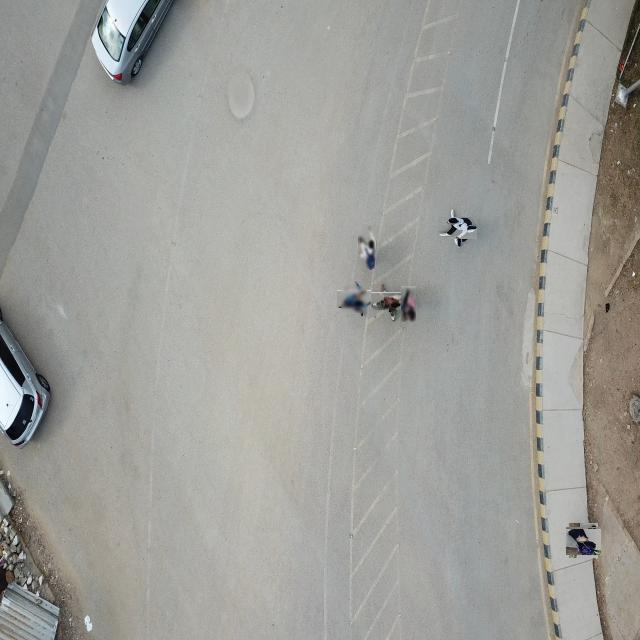Manusia: (568, 524, 601, 558), (442, 212, 474, 244), (376, 288, 405, 316), (358, 226, 376, 270), (341, 286, 368, 314), (401, 286, 417, 323)
